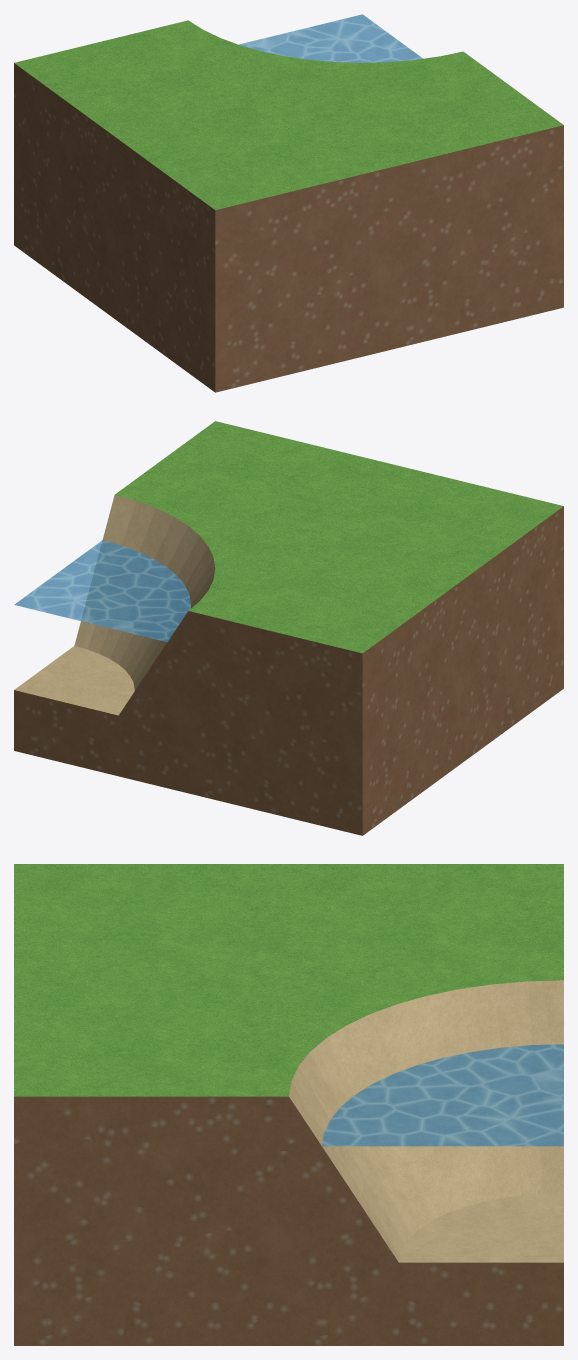
Rendered from Water_OuterCorner_H.fbx.
The picture shows the model from 3 angles, top to bottom: view 1: azimuth 30°, elevation 25°; view 2: azimuth 150°, elevation 25°; view 3: azimuth 270°, elevation 25°; orthographic projection. The views are drawn at different scales.
Visible parts, largest first — view 1: Water_OuterCorner_H, Water_OuterCorner_H_Water; view 2: Water_OuterCorner_H, Water_OuterCorner_H_Water; view 3: Water_OuterCorner_H, Water_OuterCorner_H_Water.
Boxes of the visible parts, box(x1,y1,x2,y2) form: Water_OuterCorner_H: box(14, 20, 563, 392); Water_OuterCorner_H_Water: box(239, 14, 422, 62); Water_OuterCorner_H: box(14, 421, 563, 835); Water_OuterCorner_H_Water: box(14, 540, 190, 642); Water_OuterCorner_H: box(14, 864, 563, 1345); Water_OuterCorner_H_Water: box(322, 1044, 563, 1146).
Bounding box in the file's own units: 3 × 1.5 × 3.
Materials: 4 (4 with a texture image).
